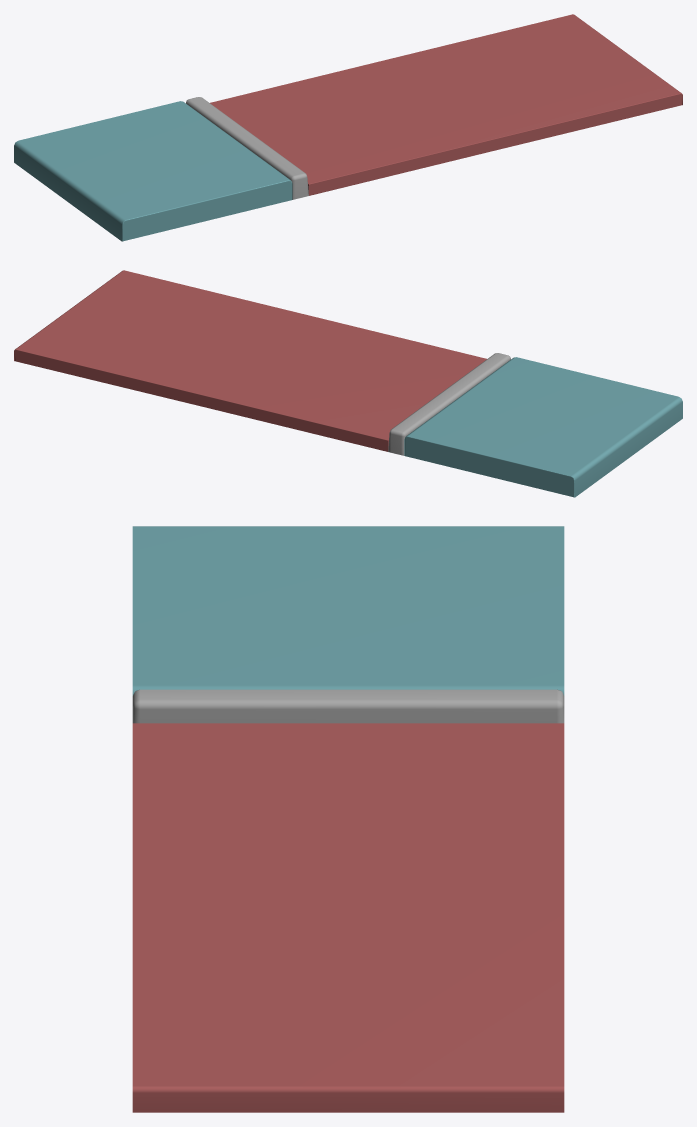
The model's file is obj_street_1x3.fbx.
The picture shows the model from 3 angles, top to bottom: view 1: azimuth 30°, elevation 25°; view 2: azimuth 150°, elevation 25°; view 3: azimuth 270°, elevation 25°; orthographic projection. The views are drawn at different scales.
Visible parts, largest first — view 1: obj_street_1x3; view 2: obj_street_1x3; view 3: obj_street_1x3.
Part boxes in pixels (<box>): obj_street_1x3: <box>14,14,682,241</box>; obj_street_1x3: <box>14,270,682,497</box>; obj_street_1x3: <box>132,526,564,1112</box>.
Bounding box in the file's own units: 168 × 6.44 × 56.
